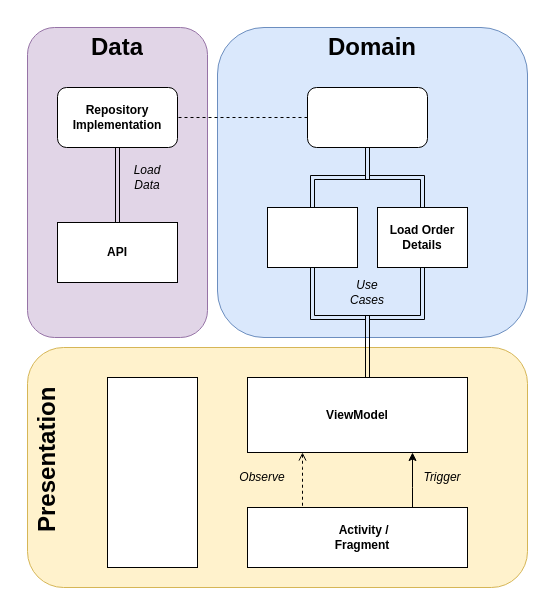
This 545x605 diagram has some shape labels left out. Here are the shapes that lost their labels. From the top down, the centre of each, then its label:
At (367,117): "Repository".
At (312,237): "Load Order Overview".
At (152,472): "DI modules".
